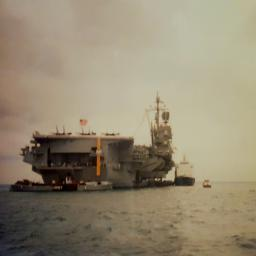Portanaves: (21, 86, 190, 194)
